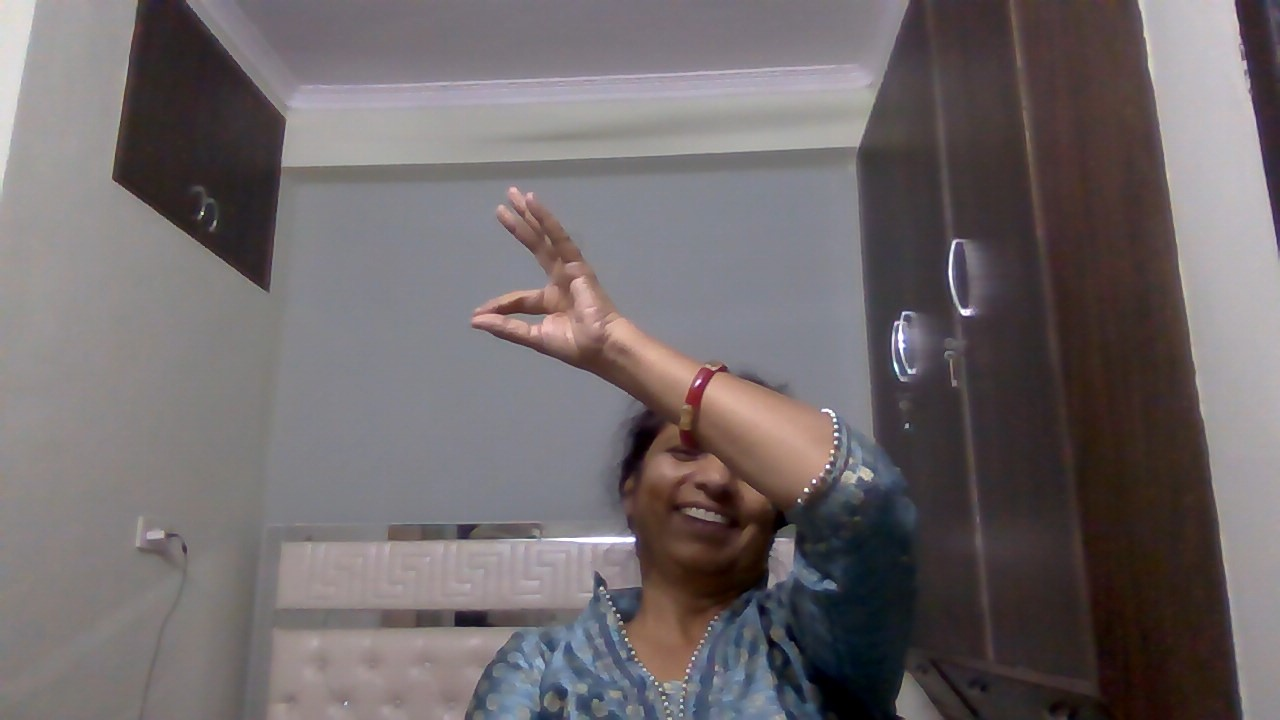Copy: (457, 176, 619, 393)
